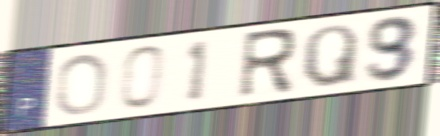0: (117, 42, 172, 113)
1: (184, 36, 211, 105)
9: (363, 12, 423, 83)
O: (53, 51, 111, 117)
Q: (300, 22, 360, 90)
R: (234, 26, 298, 102)
